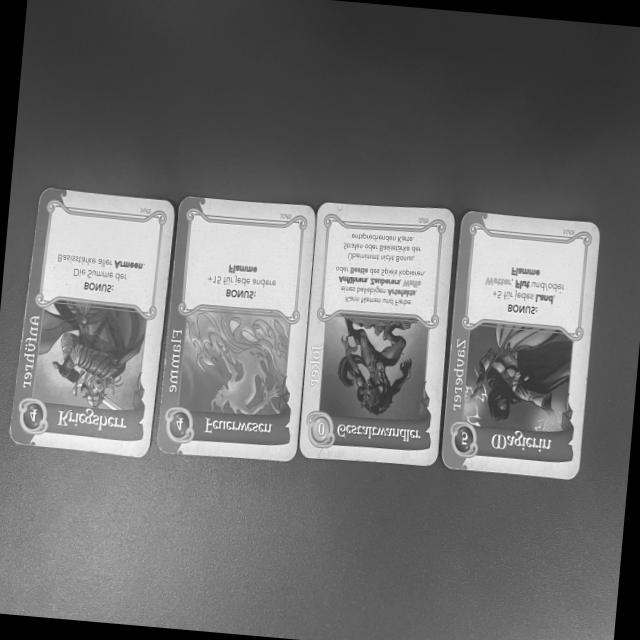Elemental Enchantress: (440, 212, 600, 480)
Fire Elemental: (155, 189, 316, 462)
Shapeshifter: (295, 196, 458, 467)
Warlord: (8, 186, 176, 458)
